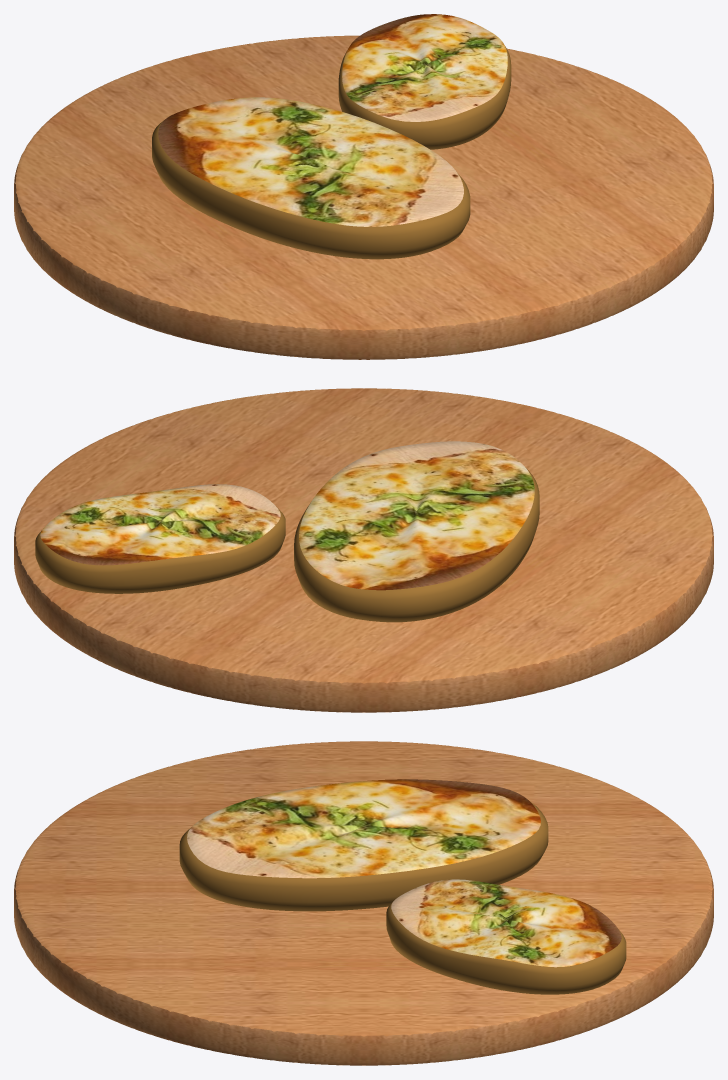
The model's file is garlic-bread.glb.
The picture shows the model from 3 angles, top to bottom: view 1: azimuth 30°, elevation 25°; view 2: azimuth 150°, elevation 25°; view 3: azimuth 270°, elevation 25°; orthographic projection.
Visible parts, largest first — view 1: board, garlic-bread, garlic-bread_2; view 2: board, garlic-bread, garlic-bread_2; view 3: board, garlic-bread, garlic-bread_2.
Part boxes in pixels (x1,y1,x2,y2): board: (14, 35, 713, 359); garlic-bread: (152, 97, 470, 259); garlic-bread_2: (338, 14, 511, 149); board: (14, 388, 713, 712); garlic-bread: (294, 441, 539, 622); garlic-bread_2: (35, 484, 285, 593); board: (14, 741, 713, 1065); garlic-bread: (179, 779, 548, 911); garlic-bread_2: (386, 879, 626, 994).
Bounding box in the file's own units: 0.3439 × 0.0377 × 0.3439.
Materials: 4 (2 with a texture image).
